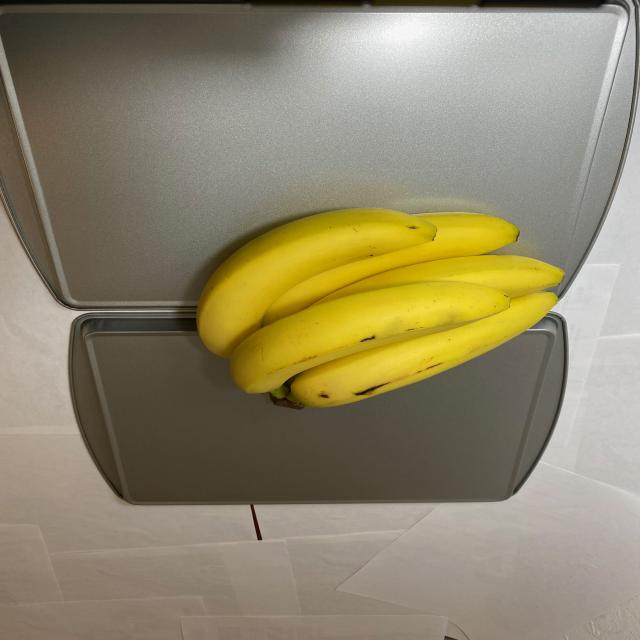Banana: (194, 198, 568, 409)
